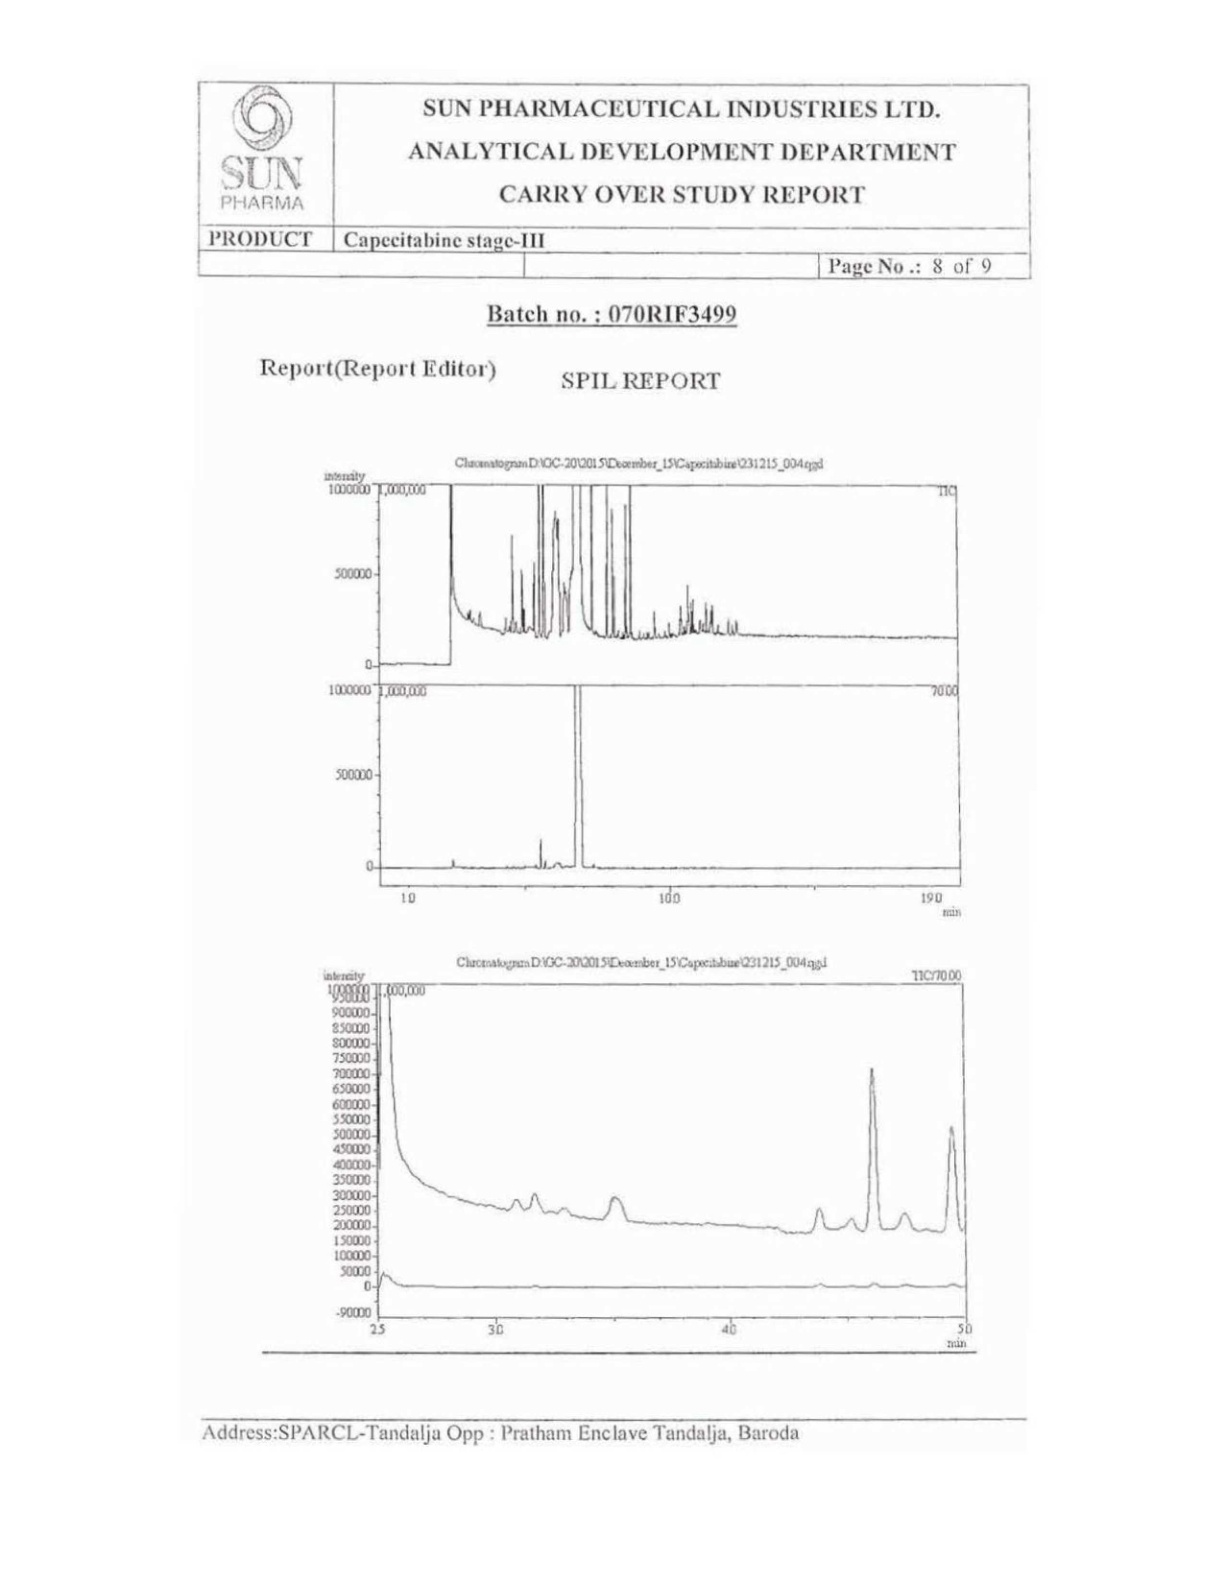merged_cells: (196, 78, 1033, 280)
